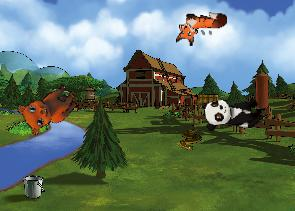bear: (12, 72, 82, 141)
fox: (175, 11, 227, 46)
panda: (201, 94, 264, 132)
